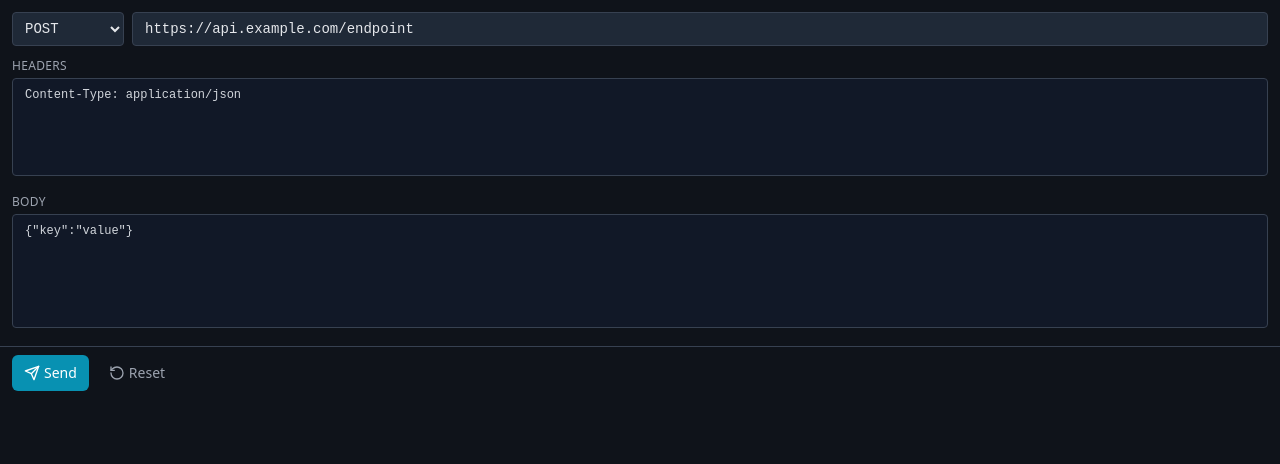
Test case: ReplayPanel › displays response status code after successful replay
Click the button "Send". click: {"x": 50, "y": 373}
box: left=12, top=355, right=89, bottom=391
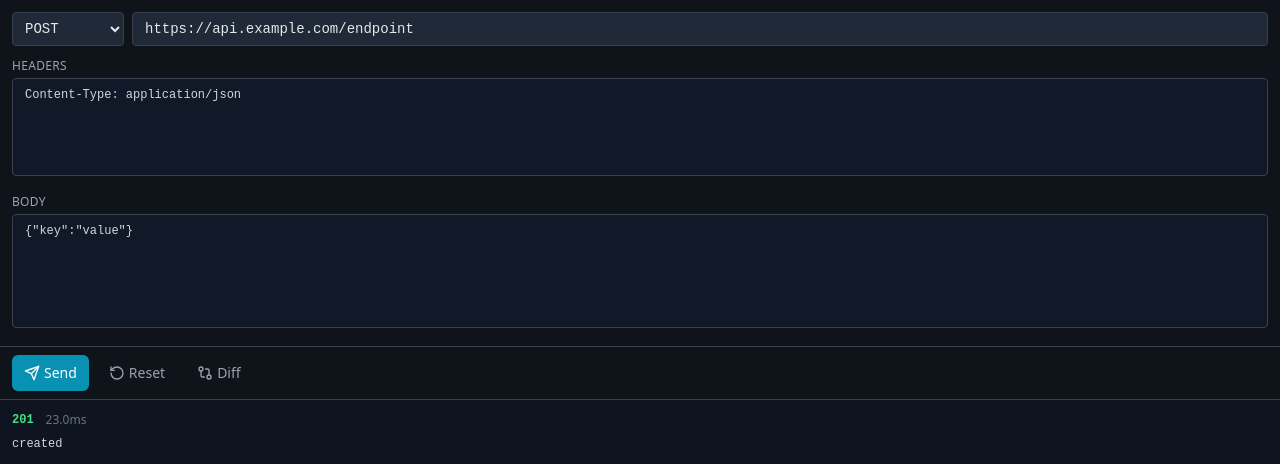
Check: the text "201" is shown, box left=12, top=412, right=34, bottom=428
